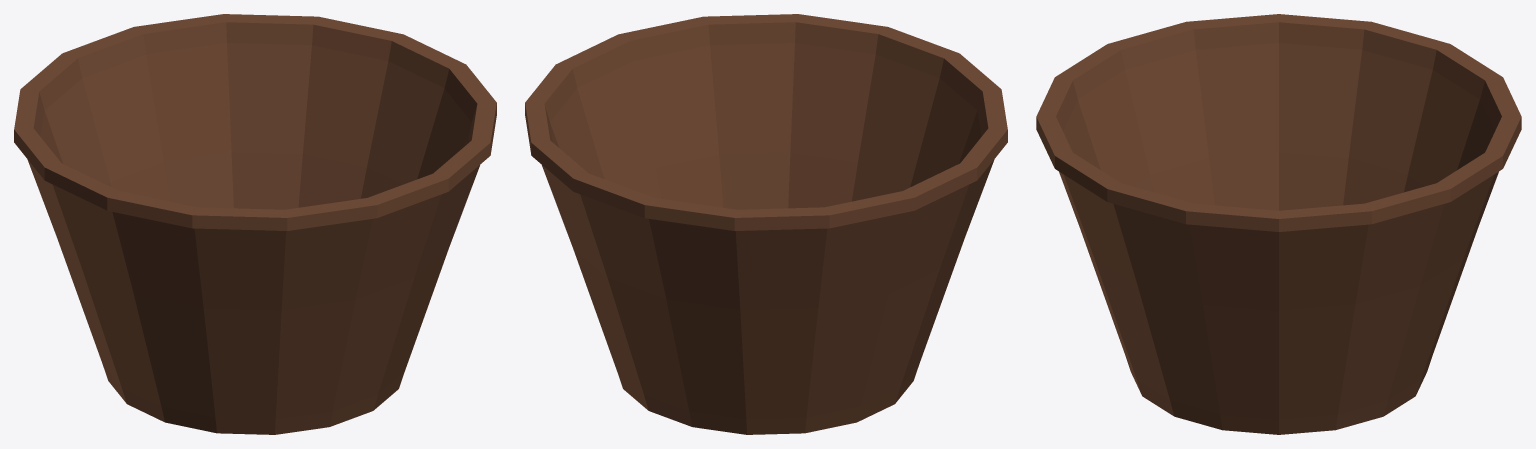
Rendered from vessel-terra.glb.
The picture shows the model from 3 angles, left to right: view 1: azimuth 30°, elevation 25°; view 2: azimuth 150°, elevation 25°; view 3: azimuth 270°, elevation 25°; orthographic projection.
Parts seen in each view (by area): view 1: vessel-terra/complete-inner-outer-shell-with-drainage; view 2: vessel-terra/complete-inner-outer-shell-with-drainage; view 3: vessel-terra/complete-inner-outer-shell-with-drainage.
Part boxes in pixels (x1=…): vessel-terra/complete-inner-outer-shell-with-drainage: x1=14, y1=14, x2=496, y2=434; vessel-terra/complete-inner-outer-shell-with-drainage: x1=525, y1=14, x2=1007, y2=434; vessel-terra/complete-inner-outer-shell-with-drainage: x1=1036, y1=14, x2=1521, y2=434.
Size of the model in its own units: 0.3368 by 0.207 by 0.3368.
Materials: 1 (1 with a texture image).
